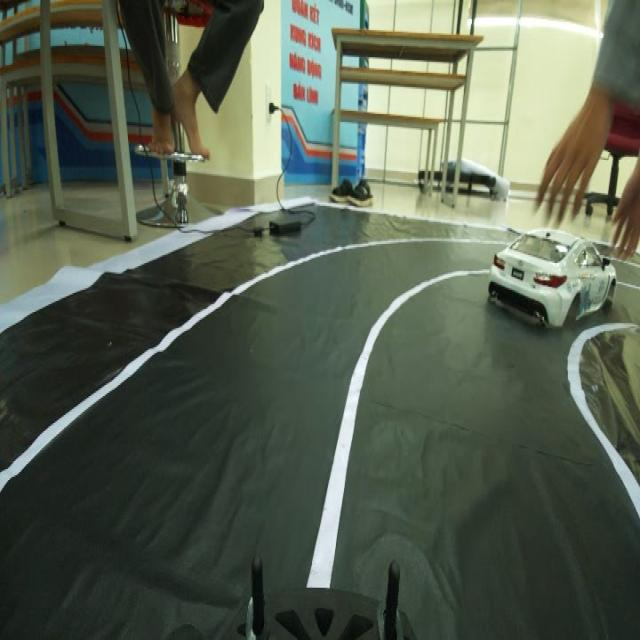car: (488, 206, 622, 328)
